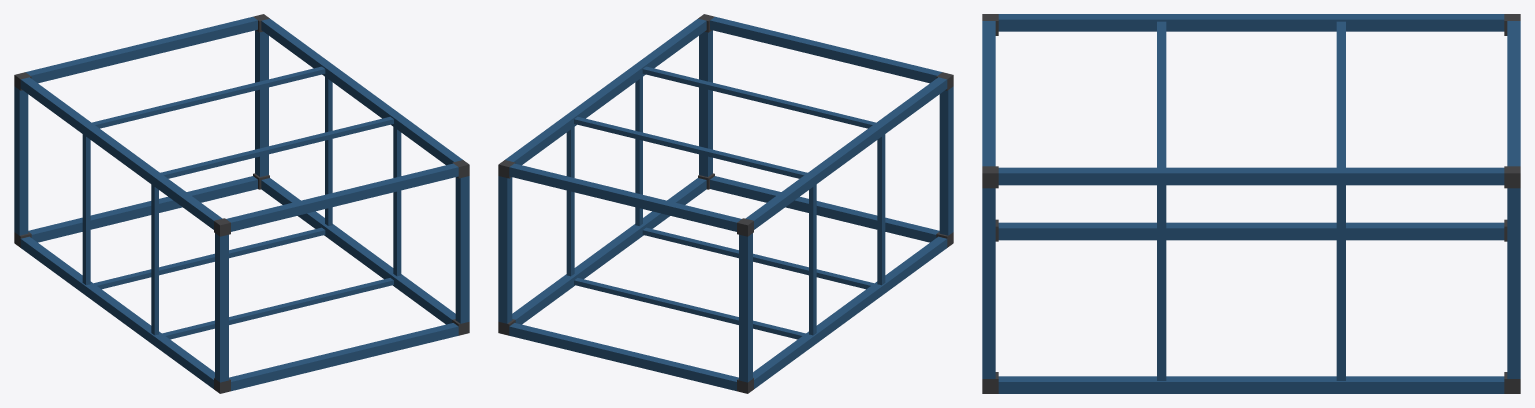
File: pax100_frame.obj
3 renders of one model, left to right at view 1: azimuth 30°, elevation 25°; view 2: azimuth 150°, elevation 25°; view 3: azimuth 270°, elevation 25°, orthographic. The views are drawn at different scales.
Parts seen in each view (by area): view 1: pax100_frame; view 2: pax100_frame; view 3: pax100_frame.
Part boxes in pixels (x1,y1,x2,y2): pax100_frame: (14,14,469,393); pax100_frame: (498,14,953,393); pax100_frame: (982,14,1520,393).
Size of the model in its own units: 7.32 by 4.73 by 10.45.
